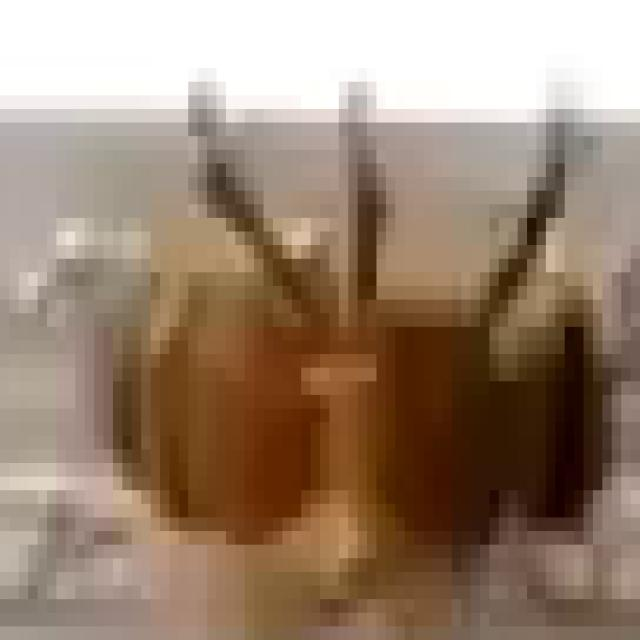honeybee: (59, 94, 606, 550)
